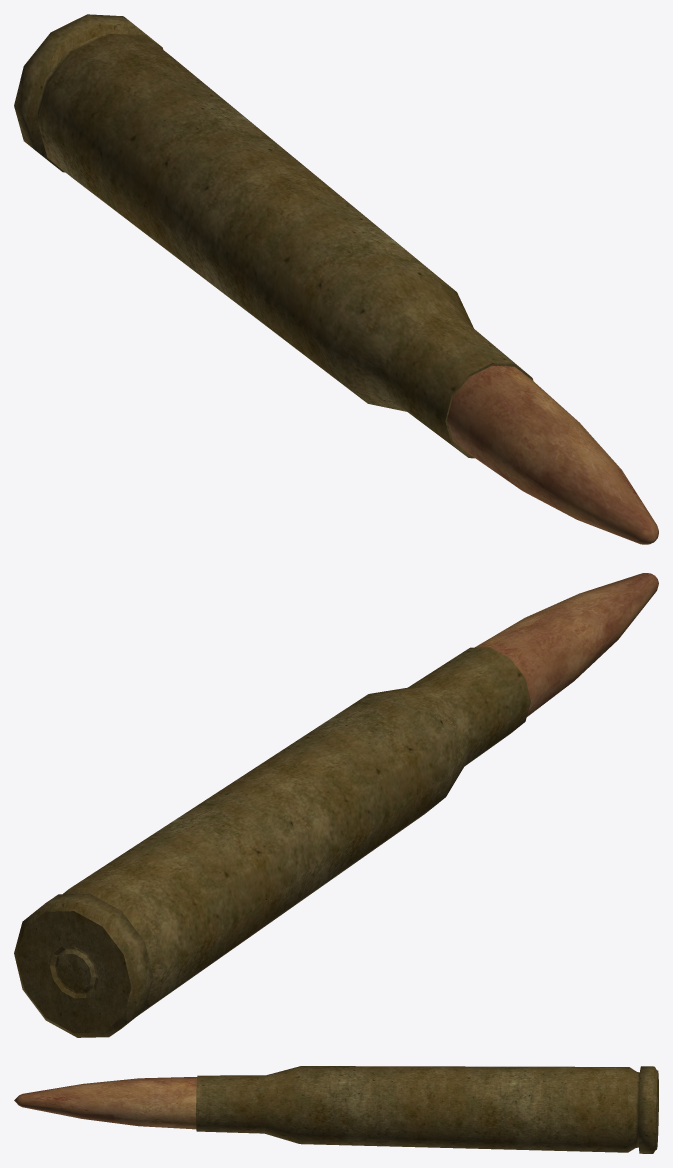
File: bullet.fbx
3 renders of one model, top to bottom at view 1: azimuth 30°, elevation 25°; view 2: azimuth 150°, elevation 25°; view 3: azimuth 270°, elevation 25°, orthographic. The views are drawn at different scales.
Parts seen in each view (by area): view 1: Cylinder001; view 2: Cylinder001; view 3: Cylinder001.
Part boxes in pixels (bbox=[...]): Cylinder001: bbox=[14, 14, 658, 544]; Cylinder001: bbox=[14, 573, 658, 1037]; Cylinder001: bbox=[14, 1066, 658, 1153].
Bounding box in the file's own units: 0.2299 × 0.2117 × 1.55.
